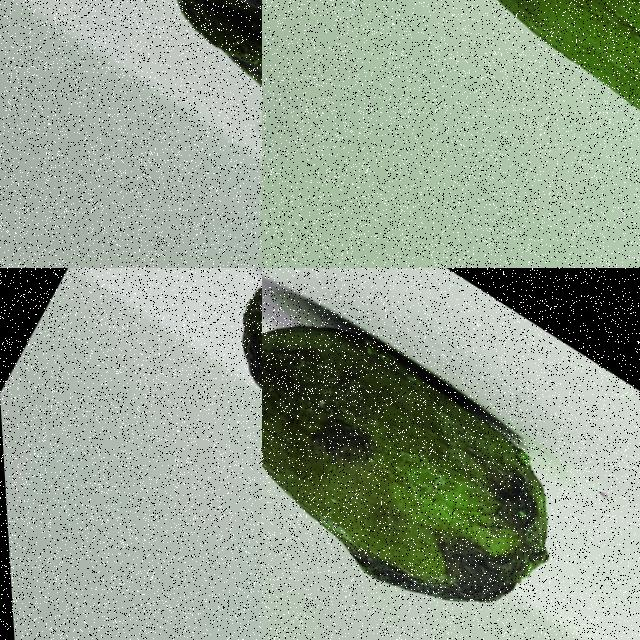Fine_cocoabeans: (262, 268, 631, 639), (280, 0, 639, 224), (153, 268, 261, 590)
Flat_cocoabeans: (117, 0, 261, 215)
